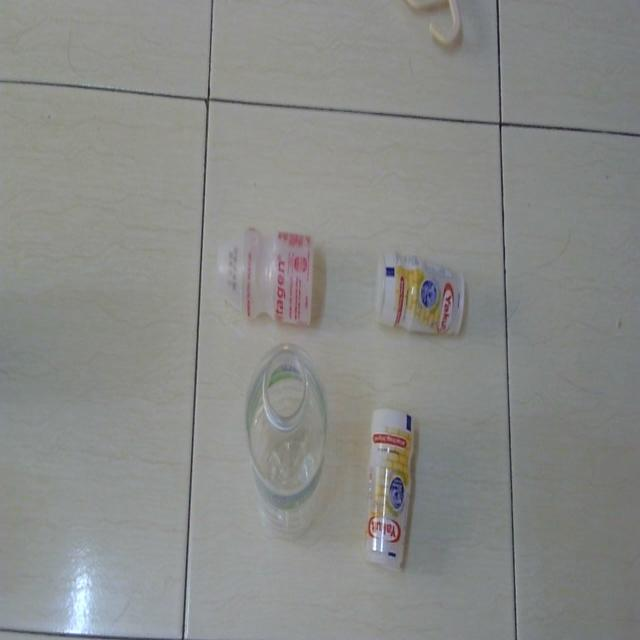plastic_laydown_0rotation: (371, 243, 470, 356), (212, 228, 320, 331)
plastic_laydown_90rotation: (358, 394, 420, 585)
plastic_standrotation: (240, 340, 331, 540)
